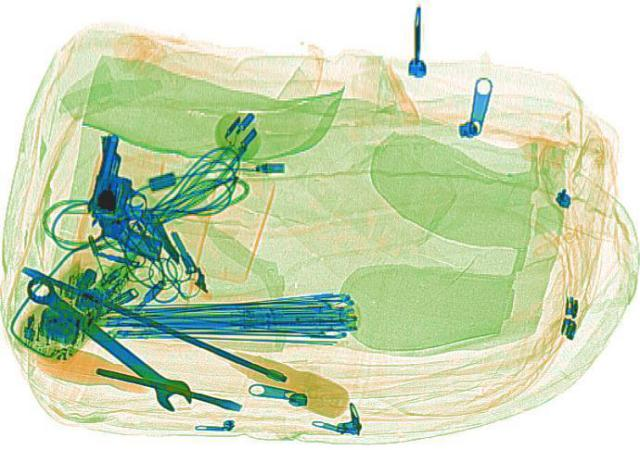Gun: (72, 130, 188, 256)
Wrench: (12, 270, 202, 413)
